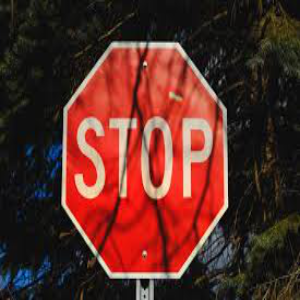STOP_SIGN: (61, 40, 229, 280)
